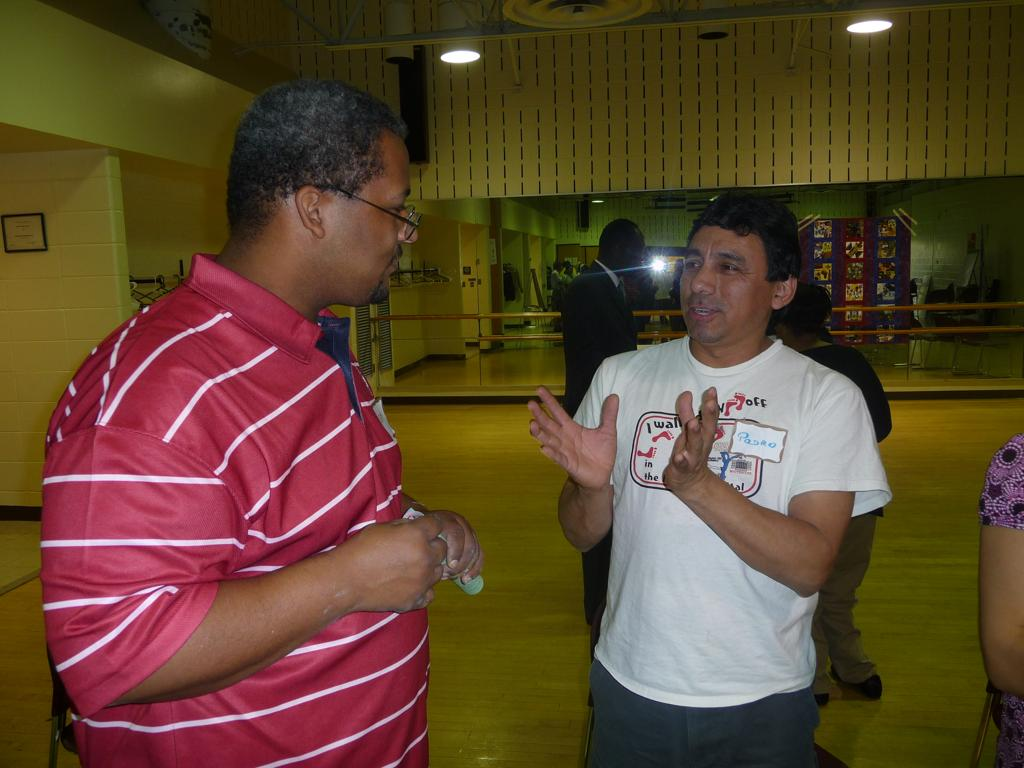face: (328, 136, 418, 304), (676, 224, 772, 338)
